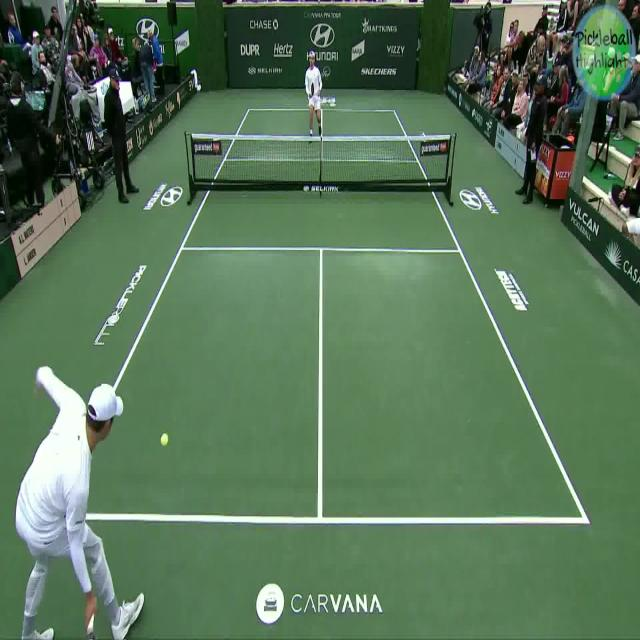ball: (158, 427, 169, 448)
